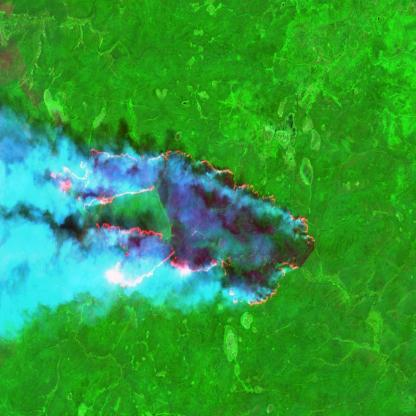fire: (48, 143, 318, 310)
